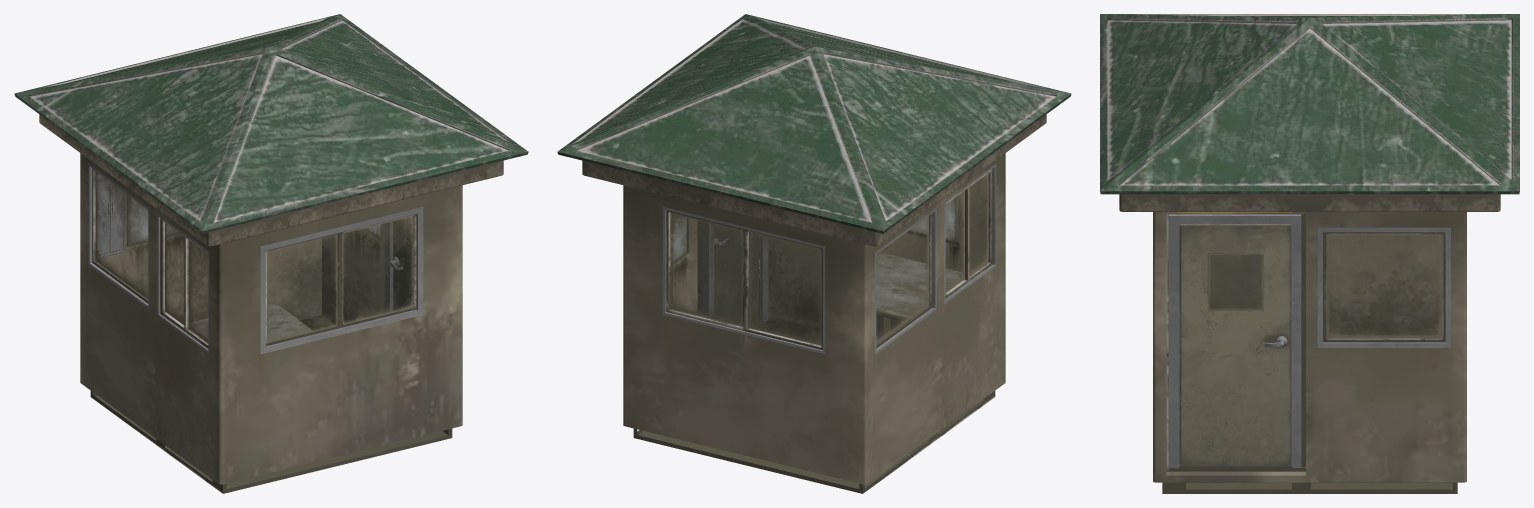
The model's file is guard-booth.glb.
3 renders of one model, left to right at view 1: azimuth 30°, elevation 25°; view 2: azimuth 150°, elevation 25°; view 3: azimuth 270°, elevation 25°, orthographic. The views are drawn at different scales.
Parts seen in each view (by area): view 1: Booth Inner Wall, Booth Locker, Door, Booth Table; view 2: Booth Inner Wall, Booth Table, Door; view 3: Booth Inner Wall, Door, Booth Door Hinge.
Part boxes in pixels (x1=…): Booth Inner Wall: x1=14, y1=14, x2=528, y2=493; Booth Locker: x1=96, y1=174, x2=125, y2=258; Door: x1=393, y1=219, x2=412, y2=310; Booth Table: x1=191, y1=303, x2=312, y2=339; Booth Inner Wall: x1=557, y1=14, x2=1071, y2=493; Booth Table: x1=876, y1=253, x2=963, y2=338; Door: x1=714, y1=225, x2=758, y2=325; Booth Inner Wall: x1=1100, y1=14, x2=1519, y2=493; Door: x1=1180, y1=224, x2=1291, y2=466; Booth Door Hinge: x1=1179, y1=226, x2=1180, y2=464.
Size of the model in its own units: 2.65 by 2.88 by 2.65.
12 materials, 12 textured.
